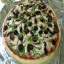olives: (8, 28, 23, 41), (13, 12, 27, 23), (29, 33, 40, 42), (14, 43, 24, 52), (32, 23, 43, 31), (27, 42, 36, 50), (53, 23, 59, 33), (37, 16, 46, 22), (27, 21, 34, 28)
pizza: (5, 2, 60, 59)
